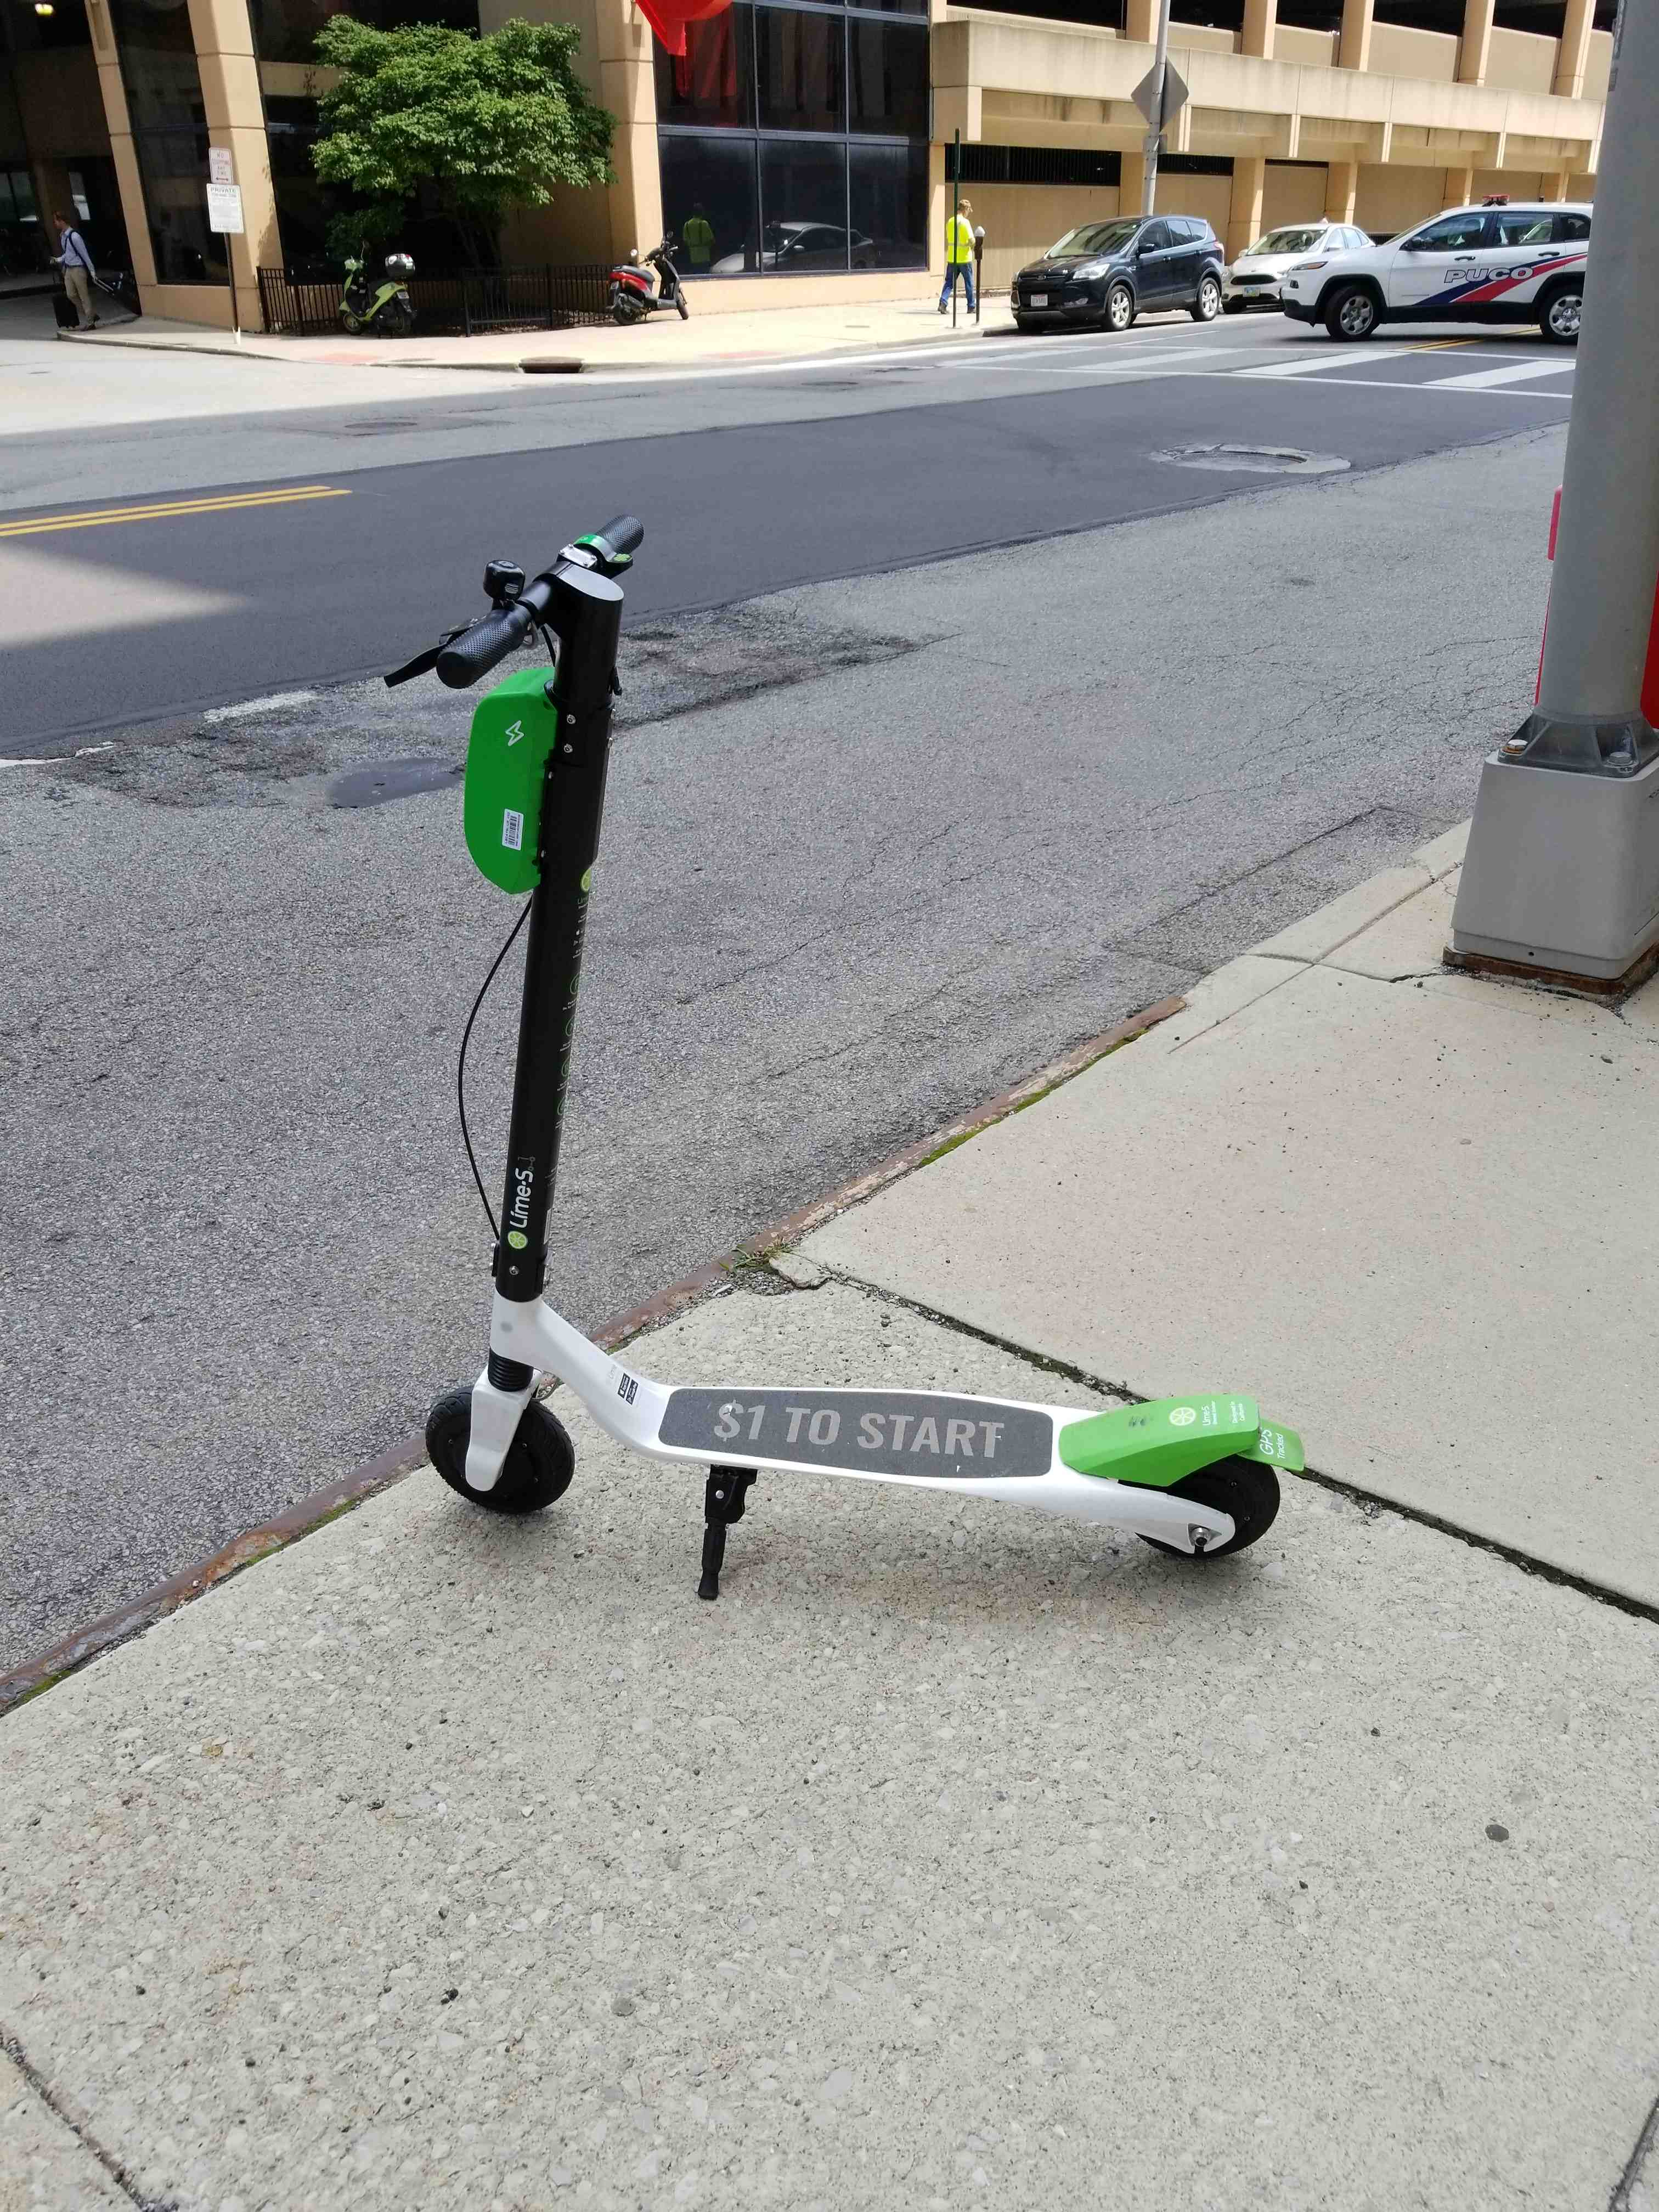scooter: (378, 469, 1326, 1606)
